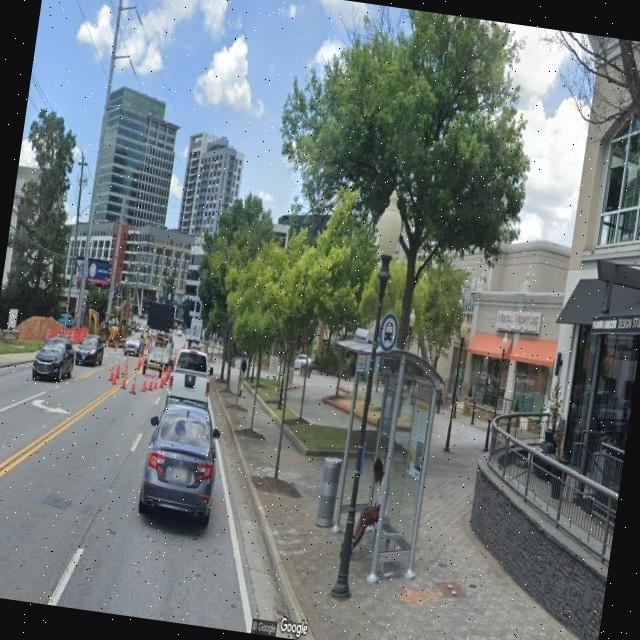seating: (360, 516, 404, 578)
shelter: (323, 342, 449, 596)
trash_can: (315, 454, 343, 530)
